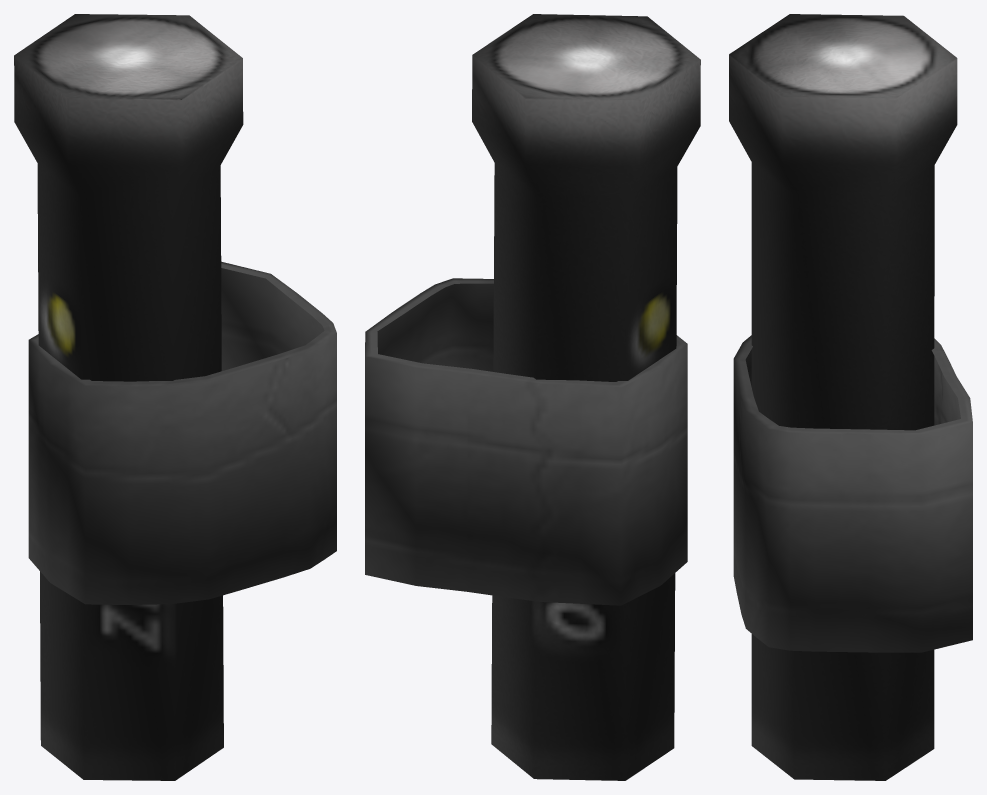
The model's file is TLOG_WeaponFlashlightPumpShotgun1.fbx.
3 renders of one model, left to right at view 1: azimuth 30°, elevation 25°; view 2: azimuth 150°, elevation 25°; view 3: azimuth 270°, elevation 25°, orthographic.
Parts seen in each view (by area): view 1: FlashlightAssaultRifle.001; view 2: FlashlightAssaultRifle.001; view 3: FlashlightAssaultRifle.001.
Part boxes in pixels (x1,y1,x2,y2): FlashlightAssaultRifle.001: [14, 14, 336, 780]; FlashlightAssaultRifle.001: [365, 14, 700, 780]; FlashlightAssaultRifle.001: [729, 14, 972, 780].
Size of the model in its own units: 0.055 by 0.1384 by 0.0431.
